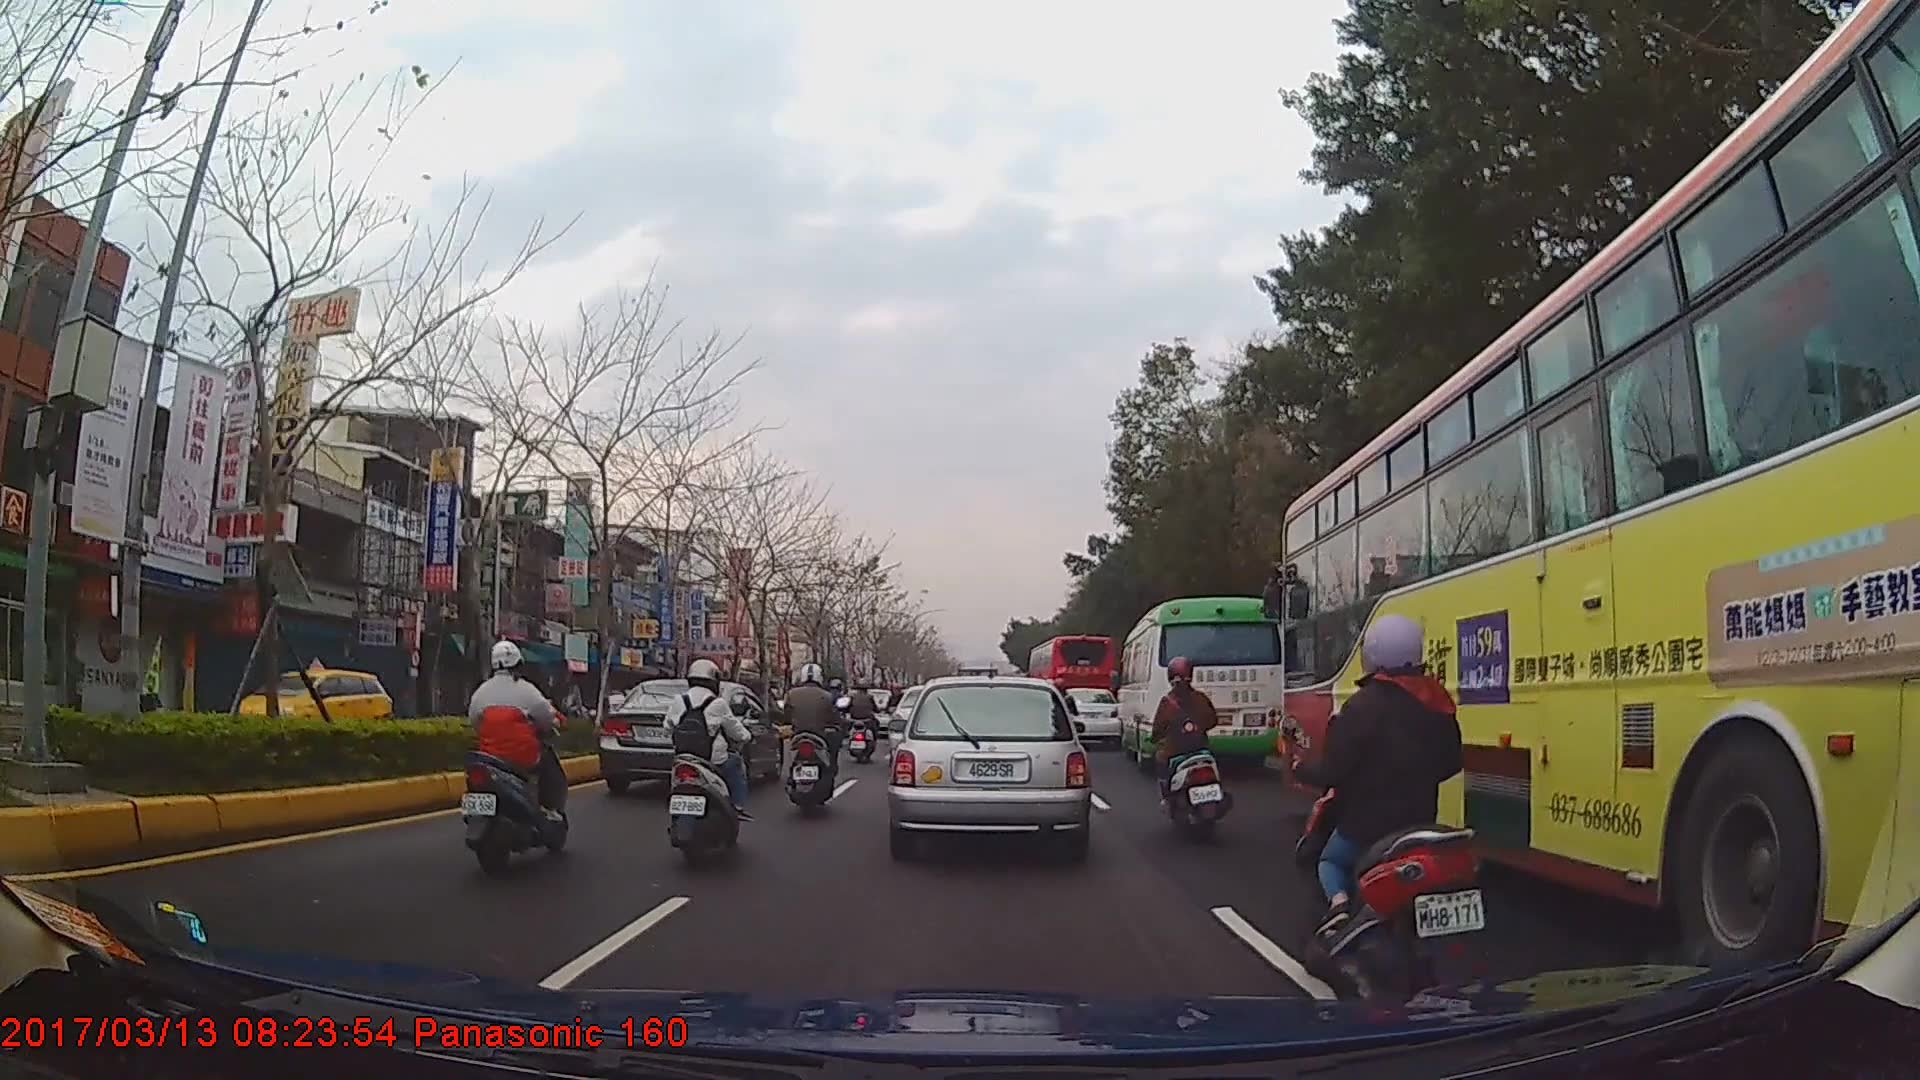rider: (1312, 609, 1483, 1004), (457, 639, 568, 879), (663, 658, 749, 870), (1145, 656, 1230, 837), (779, 665, 849, 817), (846, 679, 883, 766), (828, 679, 853, 730)
vehicle: (1275, 0, 1920, 1013), (888, 673, 1089, 856), (1116, 594, 1286, 774), (595, 678, 784, 797), (226, 651, 394, 749), (1027, 633, 1114, 742), (1051, 686, 1122, 745)
